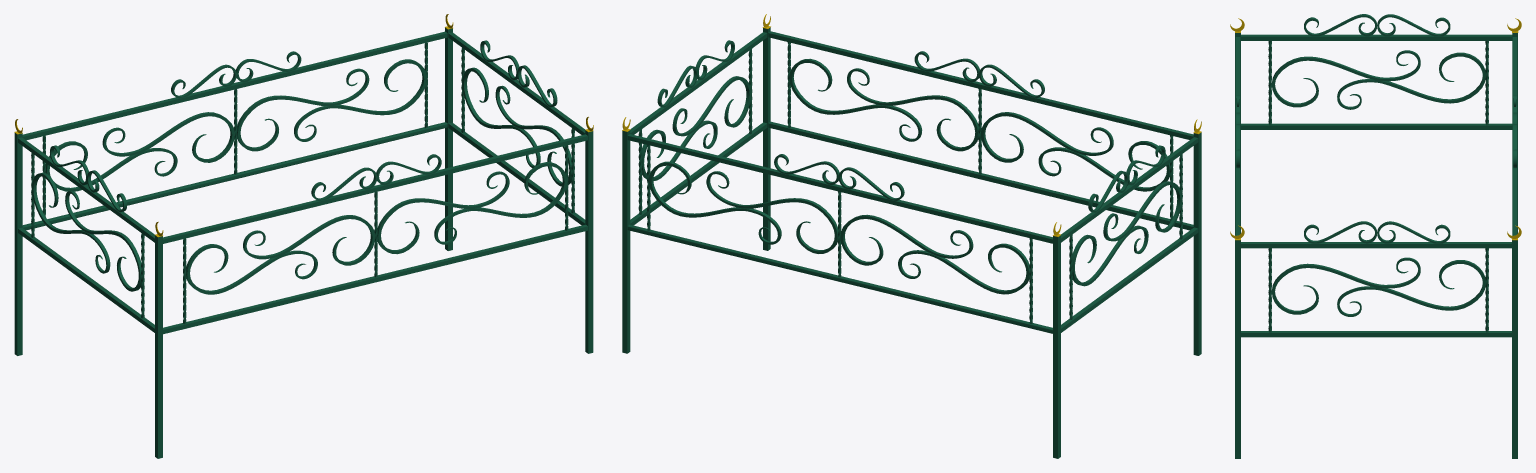
File: ograda-magnolia-muslim [u_100_muslim].glb
The picture shows the model from 3 angles, left to right: view 1: azimuth 30°, elevation 25°; view 2: azimuth 150°, elevation 25°; view 3: azimuth 270°, elevation 25°; orthographic projection.
Visible parts, largest first — view 1: ograda-magnolia-muslim; view 2: ograda-magnolia-muslim; view 3: ograda-magnolia-muslim.
Part boxes in pixels (box(x1,y1,x2,y2)): ograda-magnolia-muslim: box(14, 14, 593, 458); ograda-magnolia-muslim: box(622, 14, 1201, 458); ograda-magnolia-muslim: box(1230, 14, 1521, 458).
Size of the model in its own units: 2.11 by 1.11 by 1.24.
